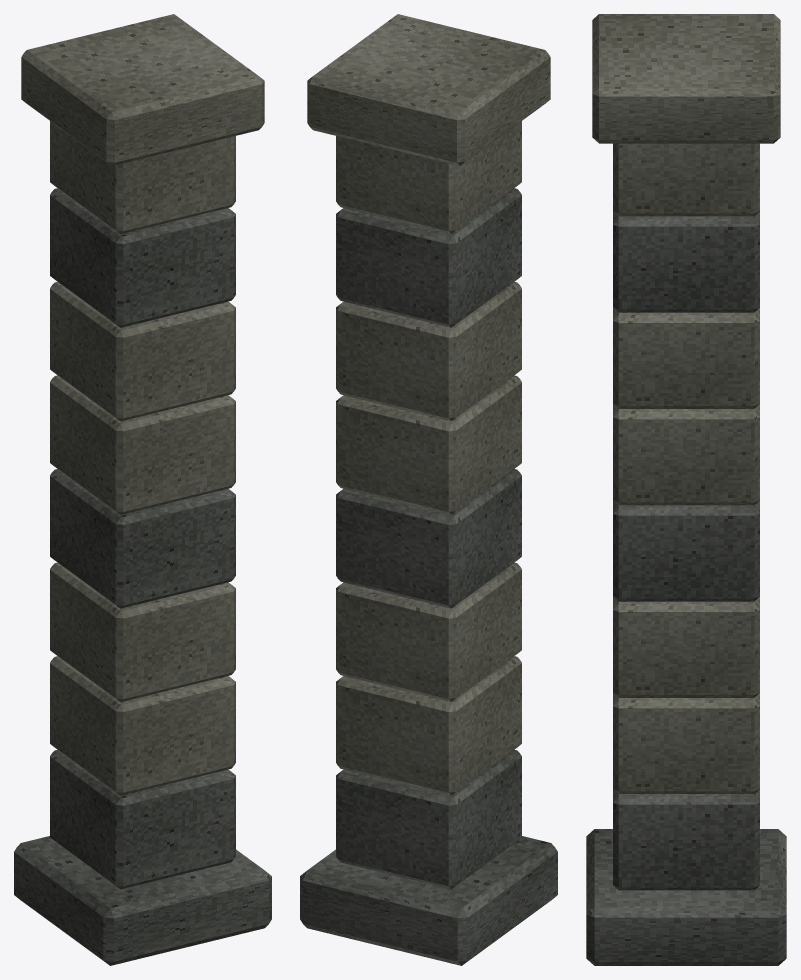
Rendered from pilar.glb.
3 views of the same model, side by side, from view 1: azimuth 30°, elevation 25°; view 2: azimuth 150°, elevation 25°; view 3: azimuth 270°, elevation 25° (orthographic). The views are drawn at different scales.
Visible parts, largest first — view 1: pilar_mesh; view 2: pilar_mesh; view 3: pilar_mesh.
Part boxes in pixels (x1,y1,x2,y2): pilar_mesh: (14,14,271,965); pilar_mesh: (300,14,557,965); pilar_mesh: (586,14,786,965).
Bounding box in the file's own units: 0.49 × 2.37 × 0.49.
2 materials, 2 textured.
